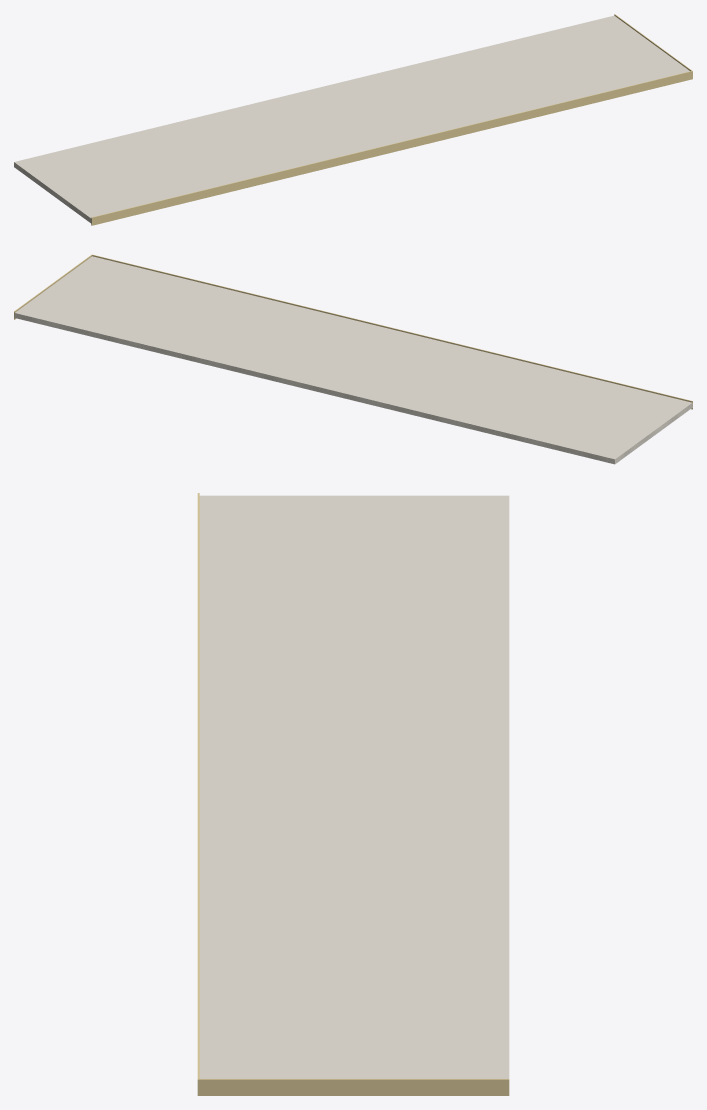
File: core_ceil.glb
The picture shows the model from 3 angles, top to bottom: view 1: azimuth 30°, elevation 25°; view 2: azimuth 150°, elevation 25°; view 3: azimuth 270°, elevation 25°; orthographic projection. The views are drawn at different scales.
Parts seen in each view (by area): view 1: core_ceil_plaster, core_ceil_gold; view 2: core_ceil_plaster, core_ceil_gold, core_ceil_ceil; view 3: core_ceil_plaster, core_ceil_gold.
Boxes of the visible parts, x1,y1,x2,y2 form: core_ceil_plaster: (14, 15, 689, 222); core_ceil_gold: (91, 14, 692, 225); core_ceil_plaster: (14, 256, 692, 463); core_ceil_gold: (14, 254, 692, 409); core_ceil_ceil: (15, 317, 692, 464); core_ceil_plaster: (199, 495, 509, 1078); core_ceil_gold: (197, 493, 509, 1095).
Bounding box in the file's own units: 14.83 × 0.19 × 3.33.
4 materials, 1 textured.
